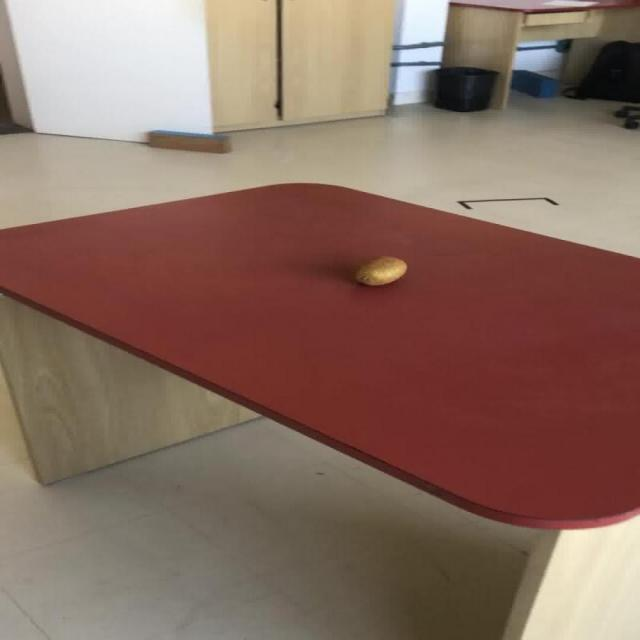Kiwi: (354, 256, 406, 285)
